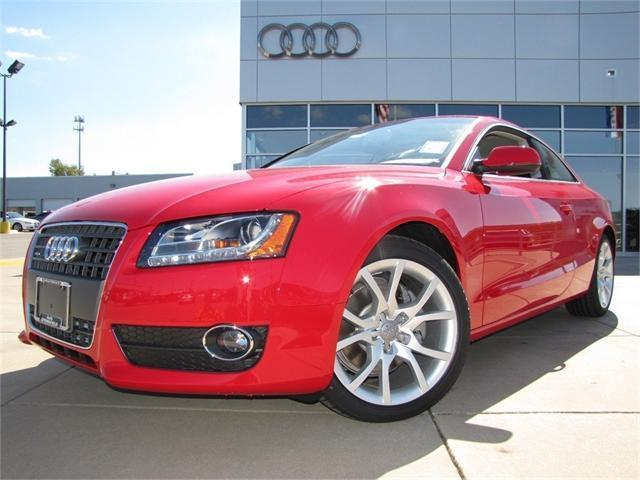Audi: (249, 10, 367, 70), (33, 229, 90, 269)
